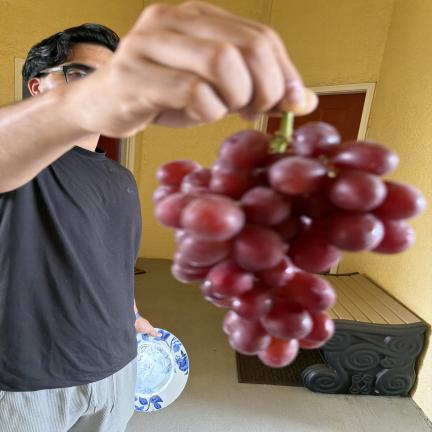grape_cluster: (152, 113, 425, 367)
